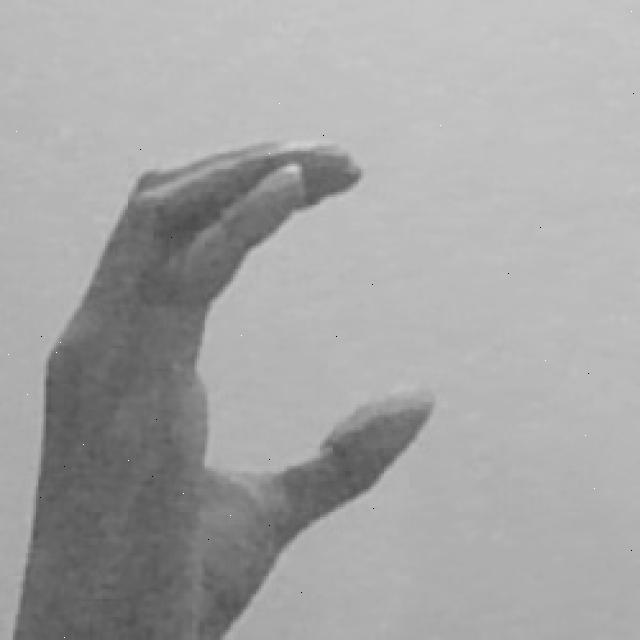C: (15, 140, 439, 638)
